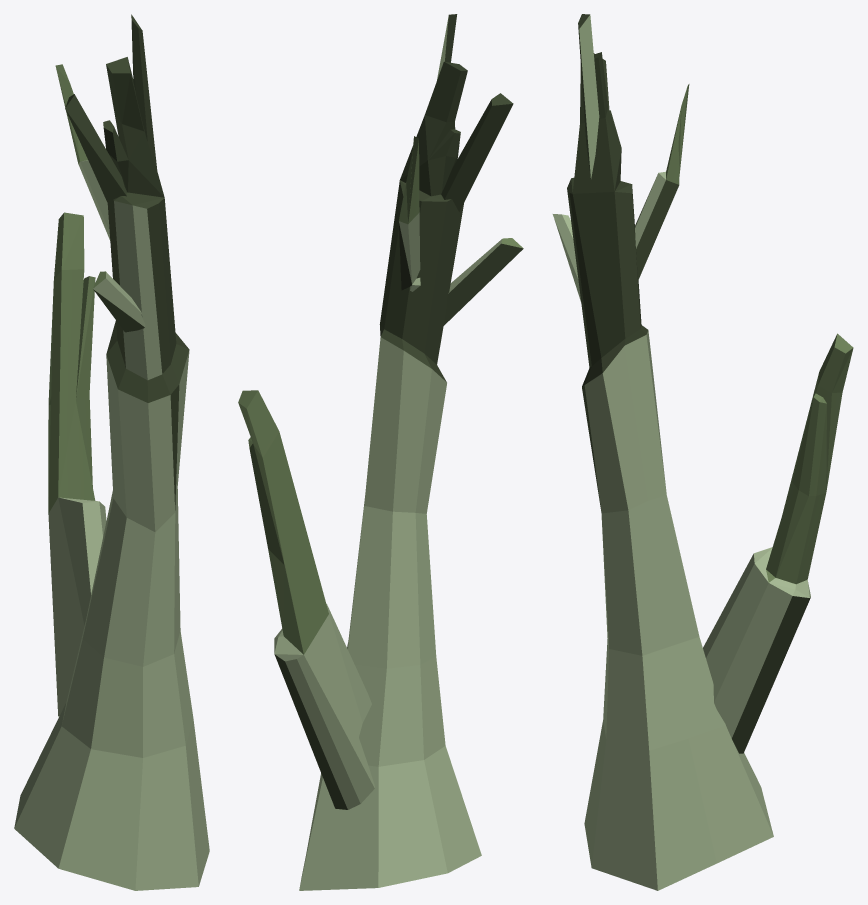
Rendered from EA_Swamp_BrokenTree_02a.glb.
The picture shows the model from 3 angles, left to right: view 1: azimuth 30°, elevation 25°; view 2: azimuth 150°, elevation 25°; view 3: azimuth 270°, elevation 25°; orthographic projection. The views are drawn at different scales.
Visible parts, largest first — view 1: EA_Swamp_BrokenTree_02a; view 2: EA_Swamp_BrokenTree_02a; view 3: EA_Swamp_BrokenTree_02a.
Boxes of the visible parts, bbox=[...] form: EA_Swamp_BrokenTree_02a: bbox=[14, 14, 209, 890]; EA_Swamp_BrokenTree_02a: bbox=[238, 14, 523, 890]; EA_Swamp_BrokenTree_02a: bbox=[552, 14, 853, 890].
Bounding box in the file's own units: 1.68 × 7.84 × 2.6.
Materials: 1 (1 with a texture image).
